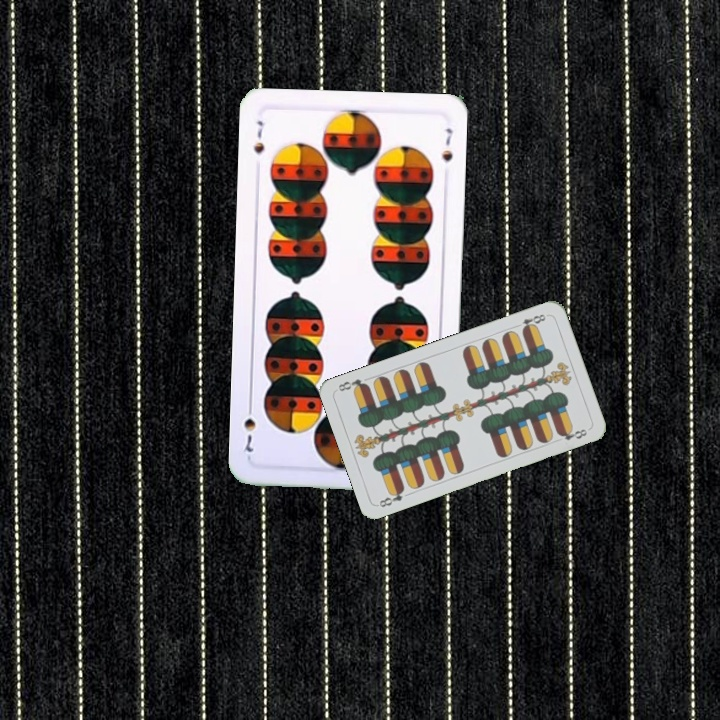E8: (511, 310, 548, 334), (375, 484, 407, 510)
S7: (250, 117, 267, 157)
